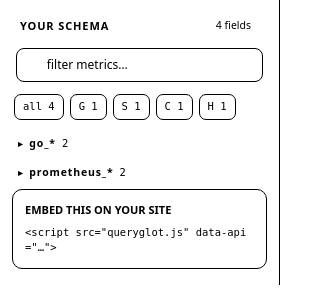
Test case: SchemaRail › type chips filter the list
Step 1. Click the button "C 1" → (174, 107), box [156,94,193,120]
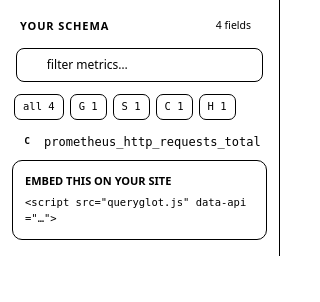
expect the text "prometheus_http_requests_total" is shown: met, box [44,132,261,150]
